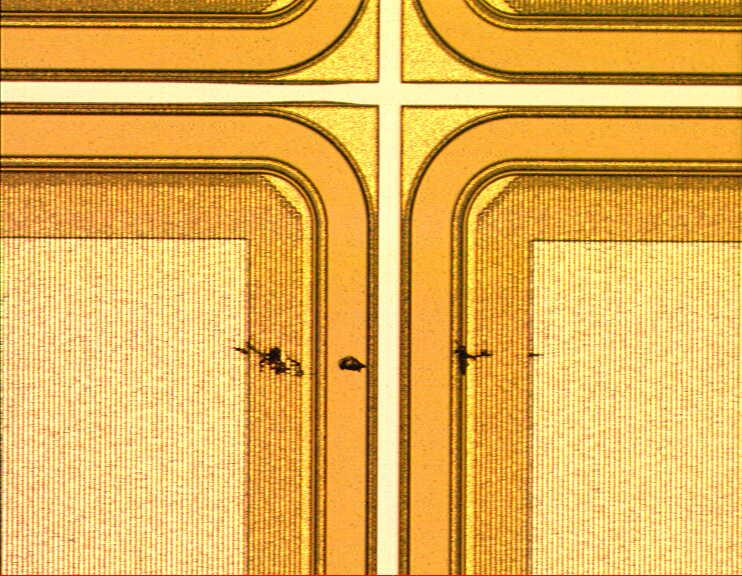SCRATCH: (227, 336, 550, 381)
